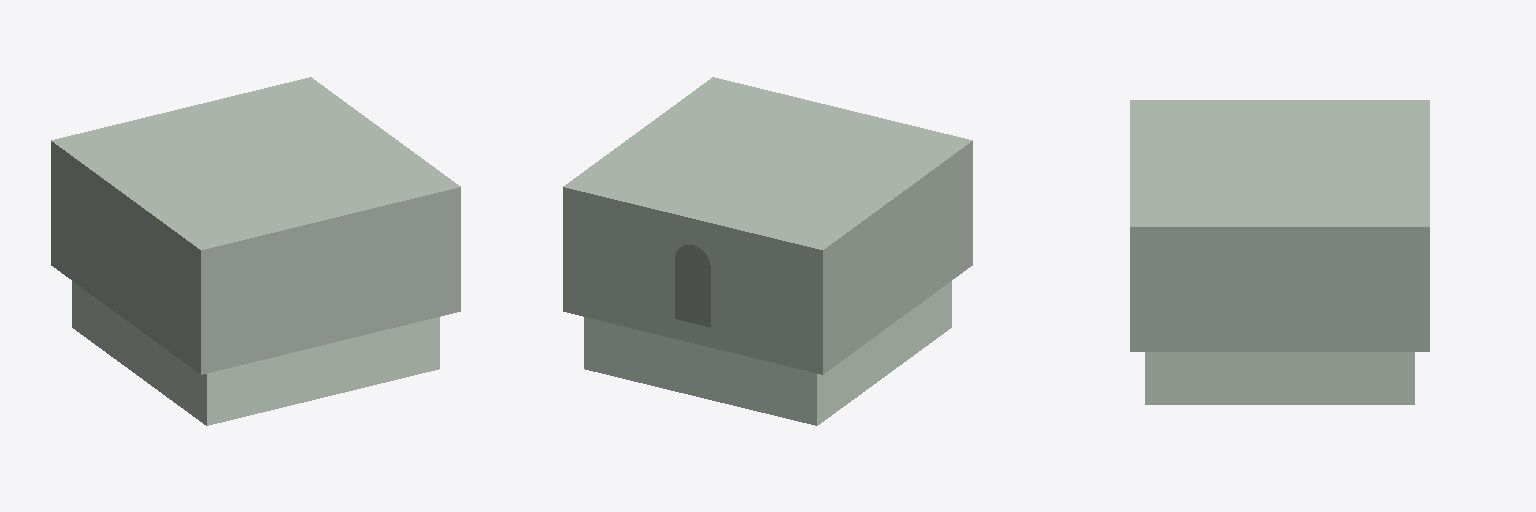
The model's file is towerDefense_022.obj.
3 views of the same model, side by side, from view 1: azimuth 30°, elevation 25°; view 2: azimuth 150°, elevation 25°; view 3: azimuth 270°, elevation 25° (orthographic).
Parts seen in each view (by area): view 1: Mesh1 Group1 Model; view 2: Mesh1 Group1 Model; view 3: Mesh1 Group1 Model.
Part boxes in pixels (x1,y1,x2,y2): Mesh1 Group1 Model: (51, 77, 460, 425); Mesh1 Group1 Model: (563, 77, 972, 425); Mesh1 Group1 Model: (1130, 100, 1429, 404).
Bounding box in the file's own units: 0.5901 × 0.4 × 0.5901.